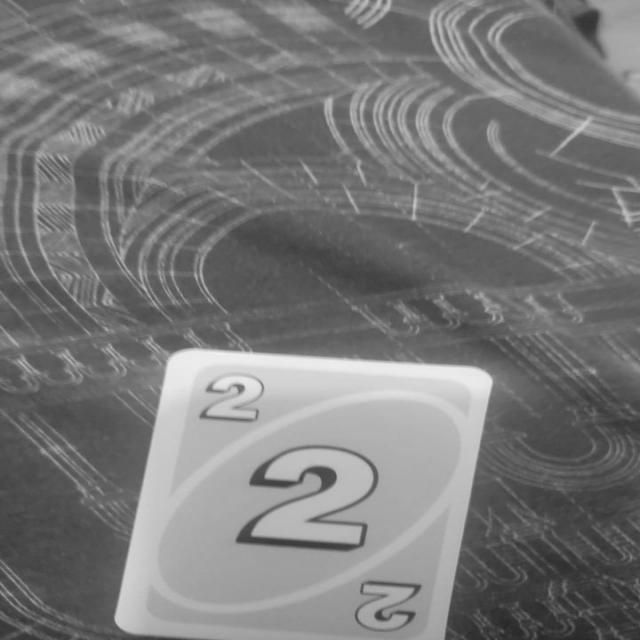card_2: (112, 347, 493, 639)
